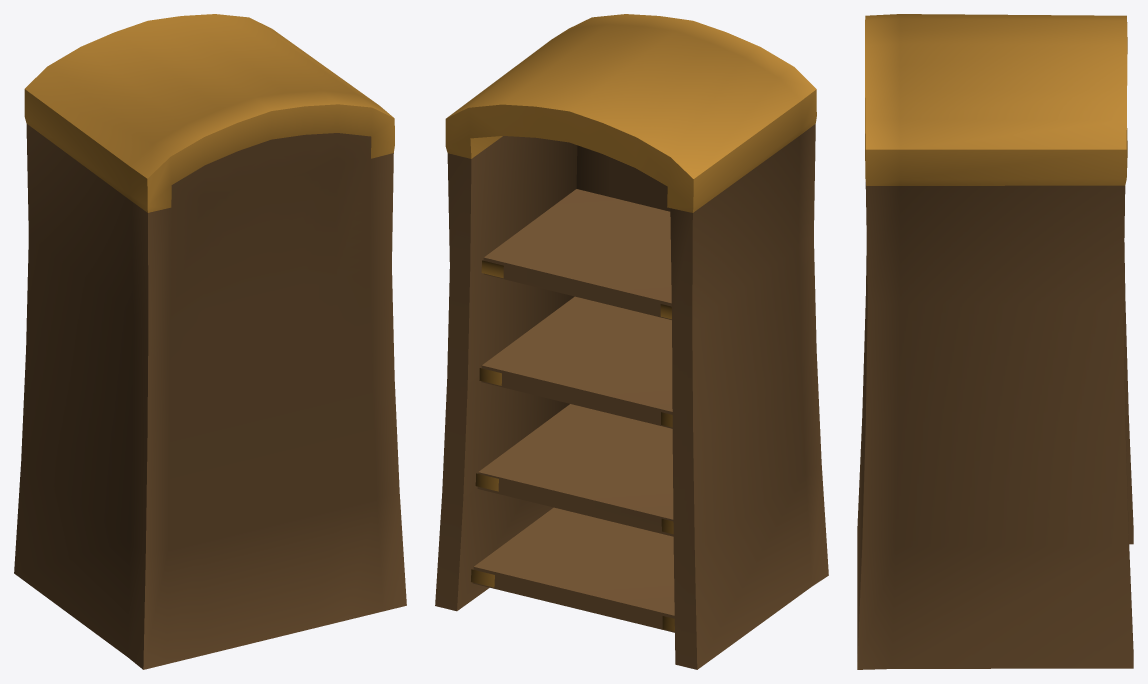
Rendered from obj_closet_LOW.FBX.
The picture shows the model from 3 angles, left to right: view 1: azimuth 30°, elevation 25°; view 2: azimuth 150°, elevation 25°; view 3: azimuth 270°, elevation 25°; orthographic projection. The views are drawn at different scales.
Parts seen in each view (by area): view 1: obj_closet_LOW; view 2: obj_closet_LOW; view 3: obj_closet_LOW.
Part boxes in pixels (<box>): obj_closet_LOW: <box>14,14,406,669</box>; obj_closet_LOW: <box>435,14,828,669</box>; obj_closet_LOW: <box>857,14,1133,669</box>.
Size of the model in its own units: 2.7 by 5.14 by 2.31.
